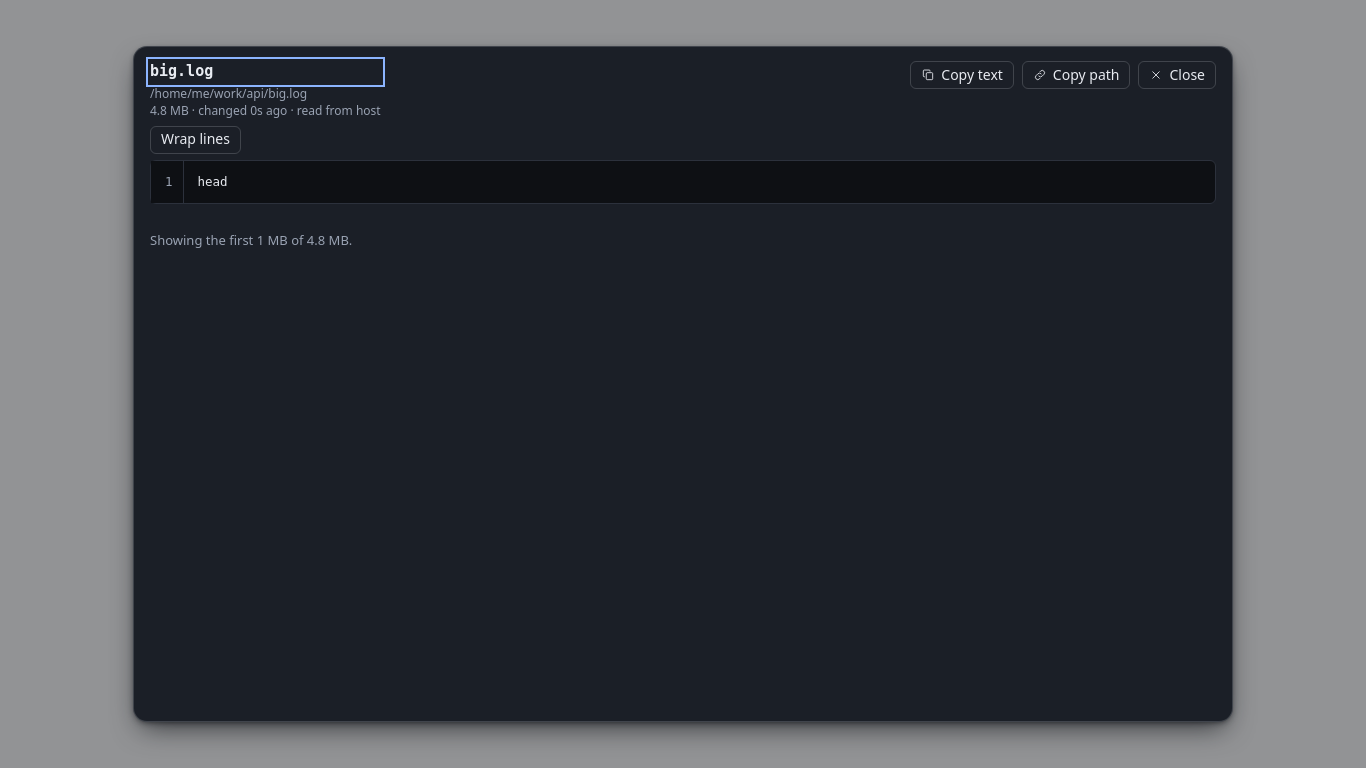
agent files › says when Copy text took only the first 1 MB
This screenshot has width=1366, height=768.
What coordinates should you click on to do the following:
click the button "Copy text"
I would click on:
 (962, 75)
Its box is x1=910 y1=61 x2=1014 y2=89.
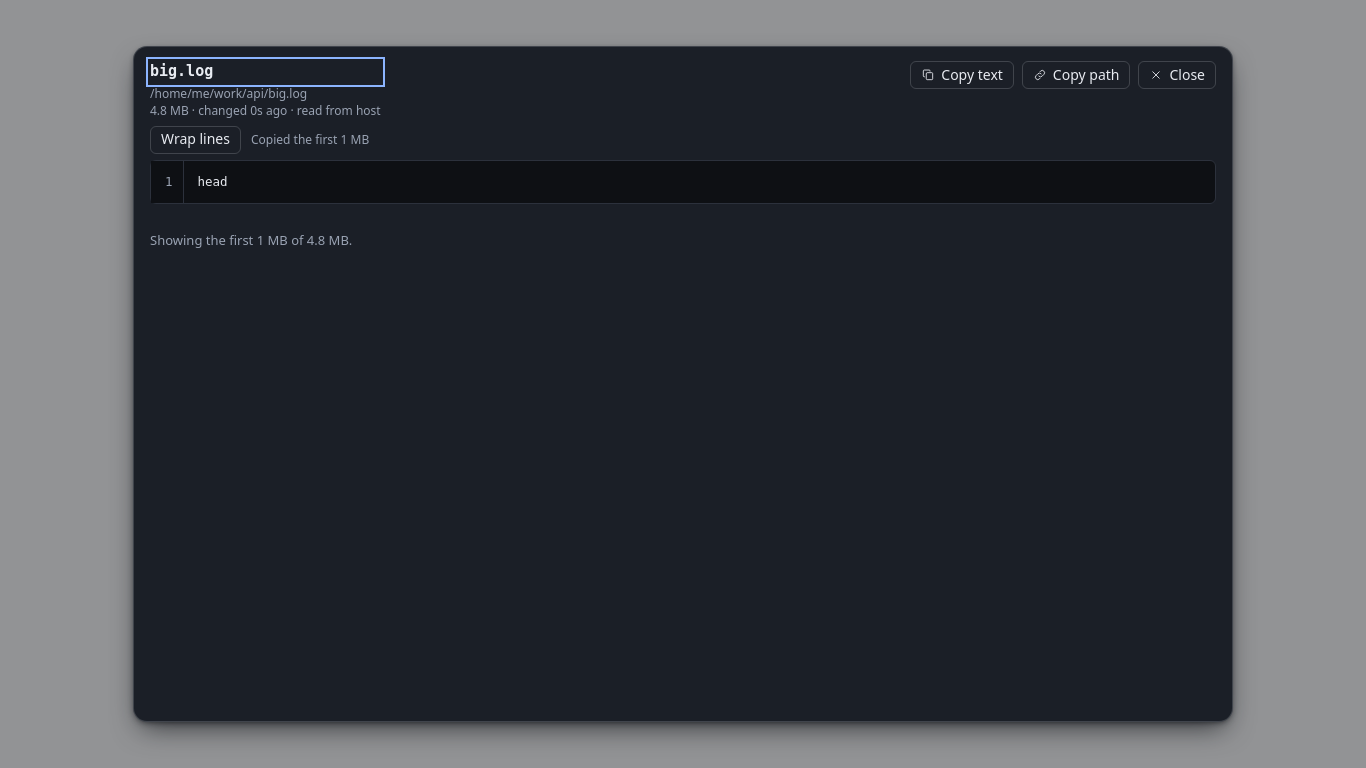
Expected: the message reads "Copied the first 1 MB", x1=251 y1=131 x2=369 y2=148
